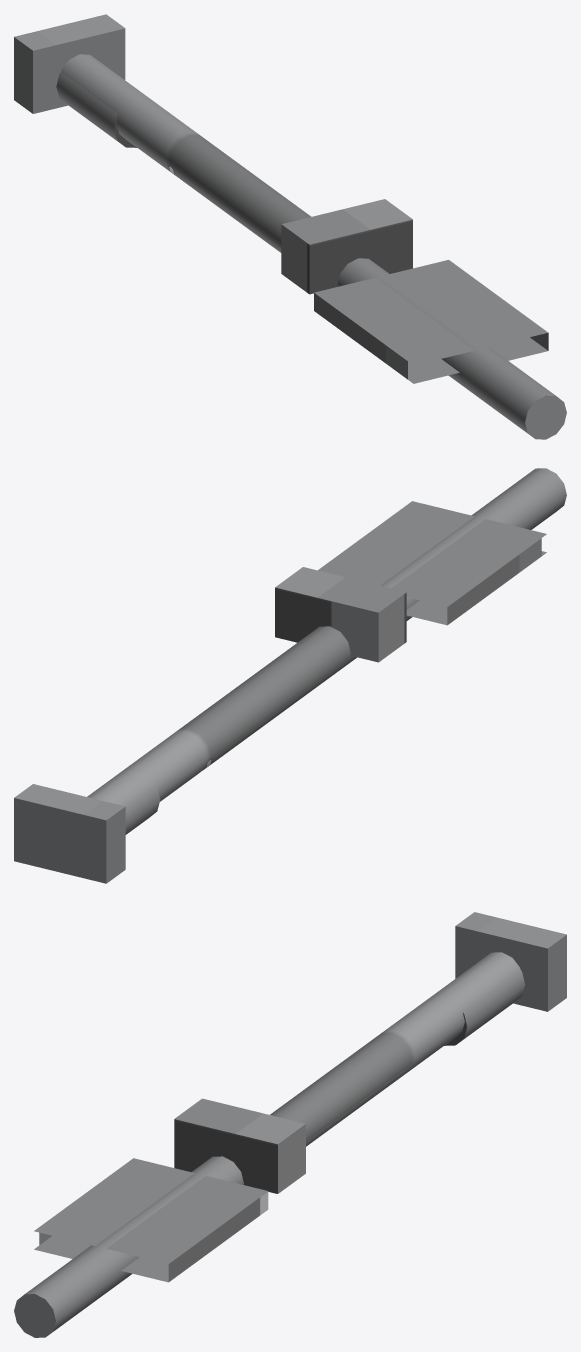
3 views of the same model, one above another, from view 1: azimuth 30°, elevation 25°; view 2: azimuth 150°, elevation 25°; view 3: azimuth 330°, elevation 25° (orthographic).
Bounding box in the file's own units: 0.4386 × 0.2382 × 2.74.
